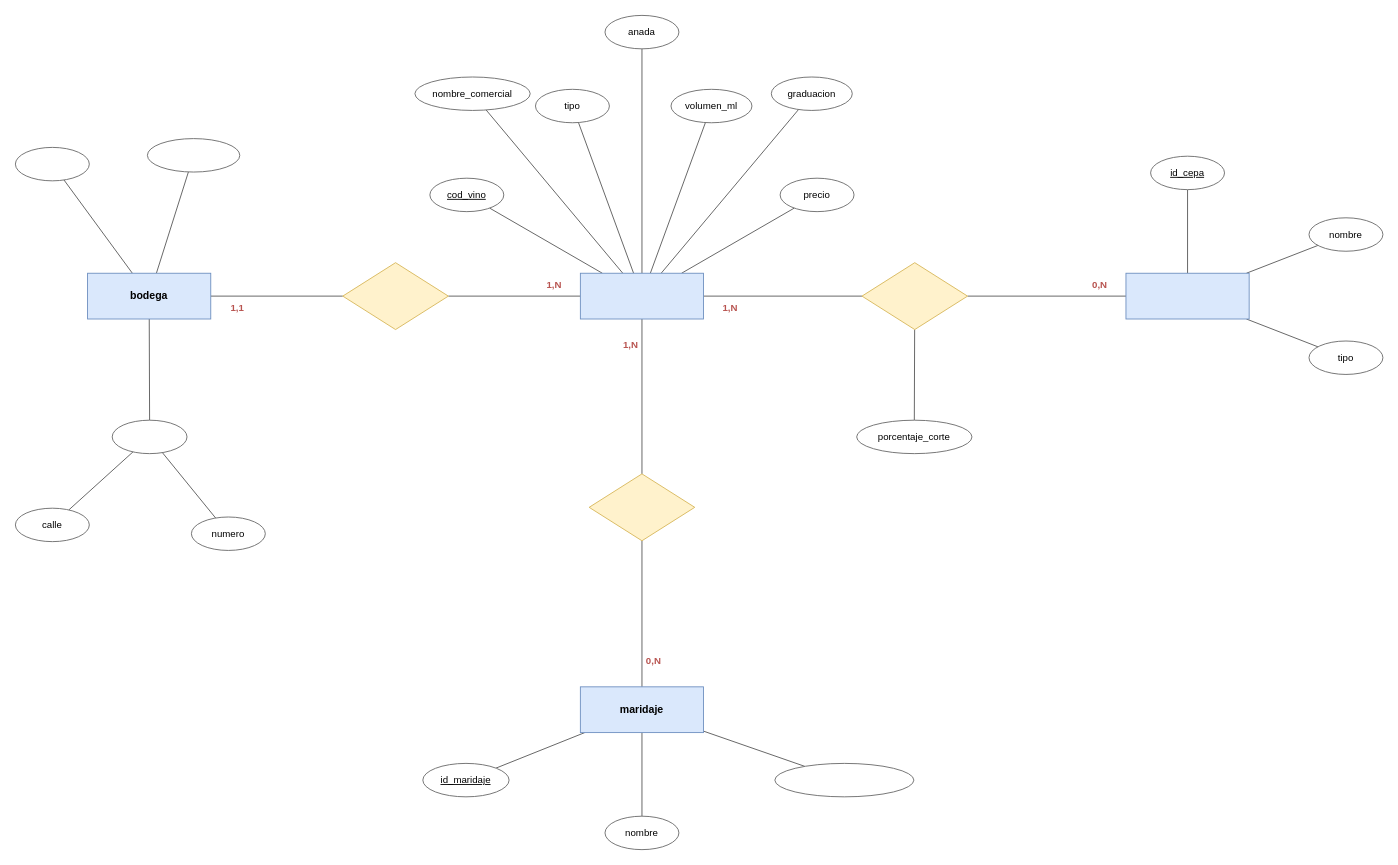
Image size: 1398x865. Some labels were removed from this diagram. The shapes that lost their labels are listed below. From the top down, each one's box as (x1, y1, x2, y2) in pixels, then its label:
(15, 147, 89, 181): cuit
(147, 138, 240, 172): razon_social
(342, 262, 448, 330): elabora
(579, 272, 704, 319): vino
(861, 262, 968, 330): se_componen
(1125, 272, 1249, 319): cepa
(111, 419, 187, 454): domicilio
(588, 473, 695, 541): recomienda
(774, 763, 914, 797): temperatura_servicio
